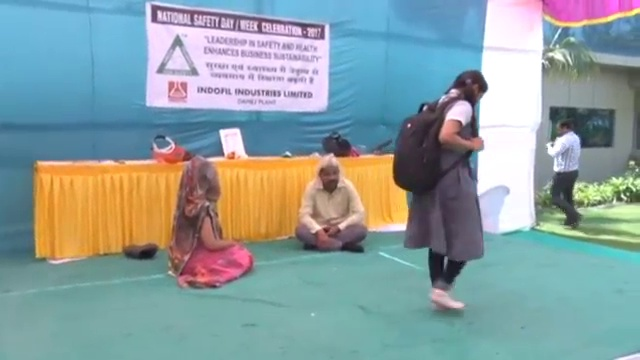helmet_off: (179, 158, 221, 202), (446, 70, 489, 104), (317, 157, 341, 191), (554, 120, 575, 135)
person: (390, 70, 489, 313), (167, 159, 254, 287), (295, 155, 367, 254), (543, 119, 584, 226)
